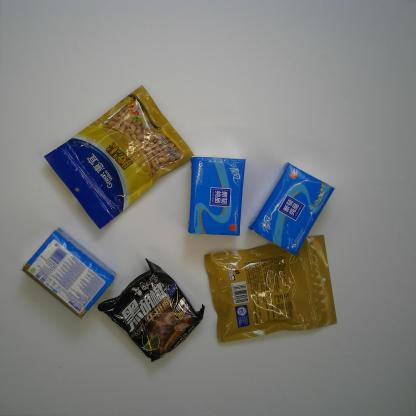Dried Fruit: (42, 84, 195, 230), (200, 232, 339, 344)
Instant Noodles: (96, 258, 207, 363)
Tissue: (21, 227, 116, 321), (246, 161, 336, 257), (186, 154, 246, 237)
